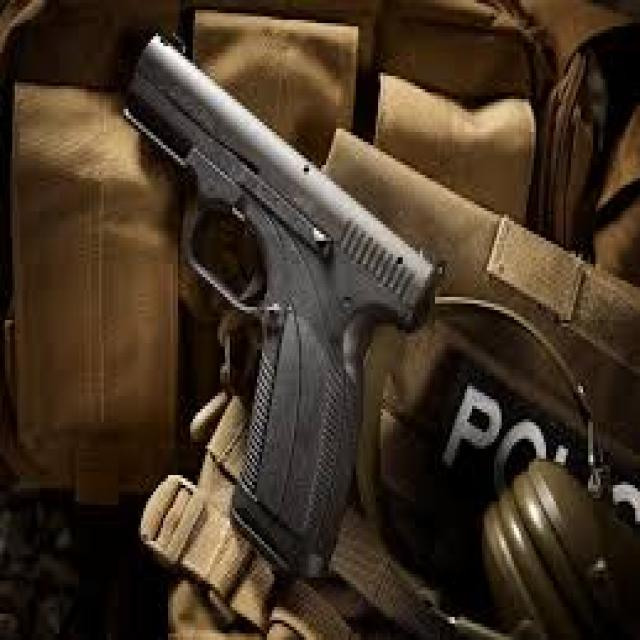Gun: (110, 24, 453, 609)
